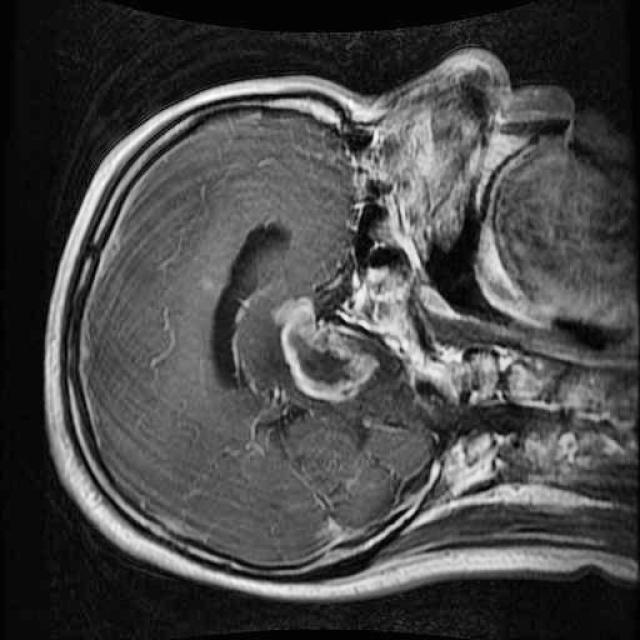Non-Tumor: (262, 284, 391, 414)
